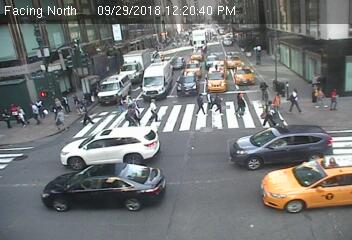car: (42, 161, 166, 212), (260, 152, 352, 213), (229, 122, 336, 170), (61, 127, 161, 168), (142, 60, 175, 102), (117, 48, 150, 86), (94, 73, 133, 105), (205, 69, 228, 94), (236, 68, 257, 90), (192, 31, 212, 54), (178, 76, 199, 96), (186, 60, 203, 79), (224, 53, 243, 68), (173, 54, 185, 72), (191, 47, 203, 60), (223, 34, 233, 47)
